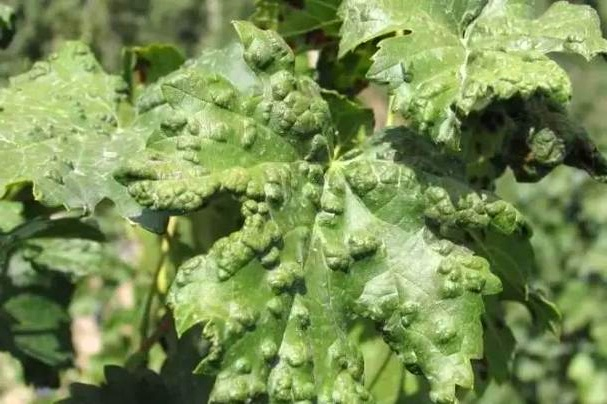Gall_Mite: (141, 183, 348, 380), (307, 189, 530, 325), (187, 79, 382, 231), (26, 61, 133, 219)
